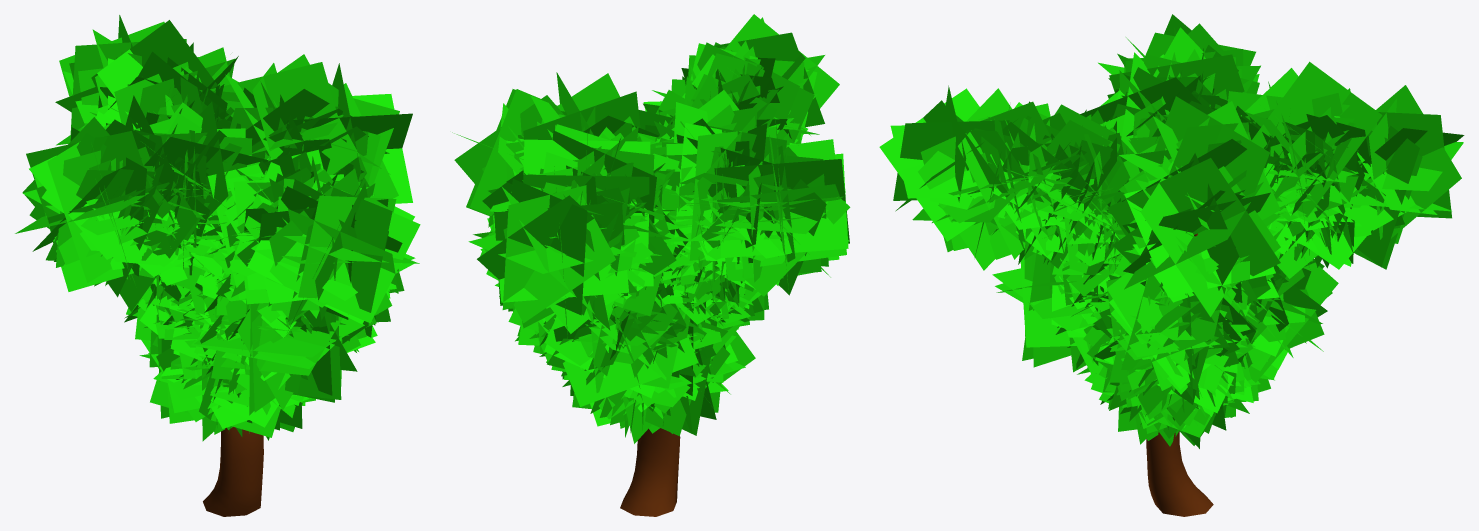
File: Tree1.fbx
The picture shows the model from 3 angles, left to right: view 1: azimuth 30°, elevation 25°; view 2: azimuth 150°, elevation 25°; view 3: azimuth 270°, elevation 25°; orthographic projection. The views are drawn at different scales.
Parts seen in each view (by area): view 1: Tree 1.001; view 2: Tree 1.001; view 3: Tree 1.001.
Part boxes in pixels (x1,y1,x2,y2): Tree 1.001: (15, 15, 420, 516); Tree 1.001: (452, 14, 850, 516); Tree 1.001: (879, 14, 1464, 516).
Bounding box in the file's own units: 1375 × 1476 × 1767.
